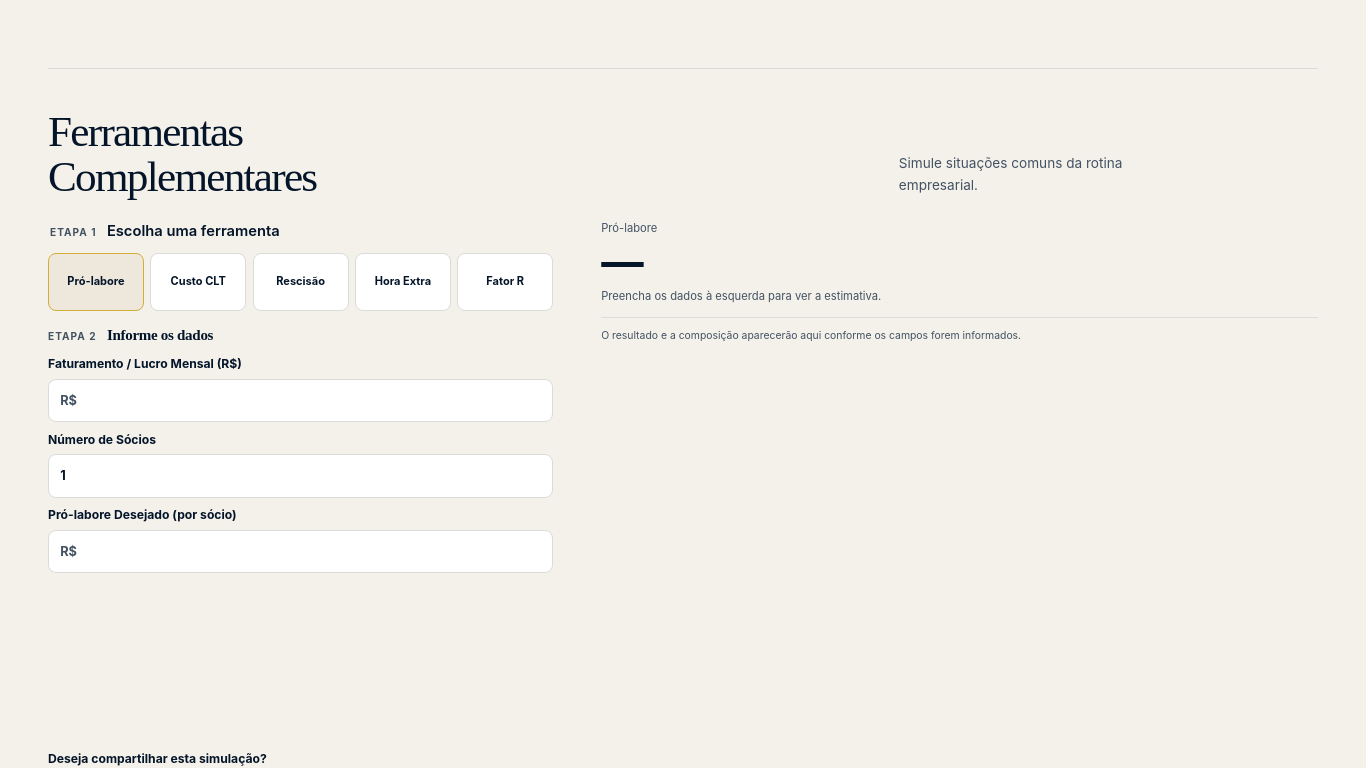
Test: Ferramentas Complementares › calcula pró-labore e usa a divisão por sócios e o INSS de 11%
The width and height of the screenshot is (1366, 768).
(page scrolled)
Step 1. Type "1000000" into the field labelled "Faturamento / Lucro Mensal (R$) R$" → (315, 400), box left=77, top=380, right=552, bottom=421
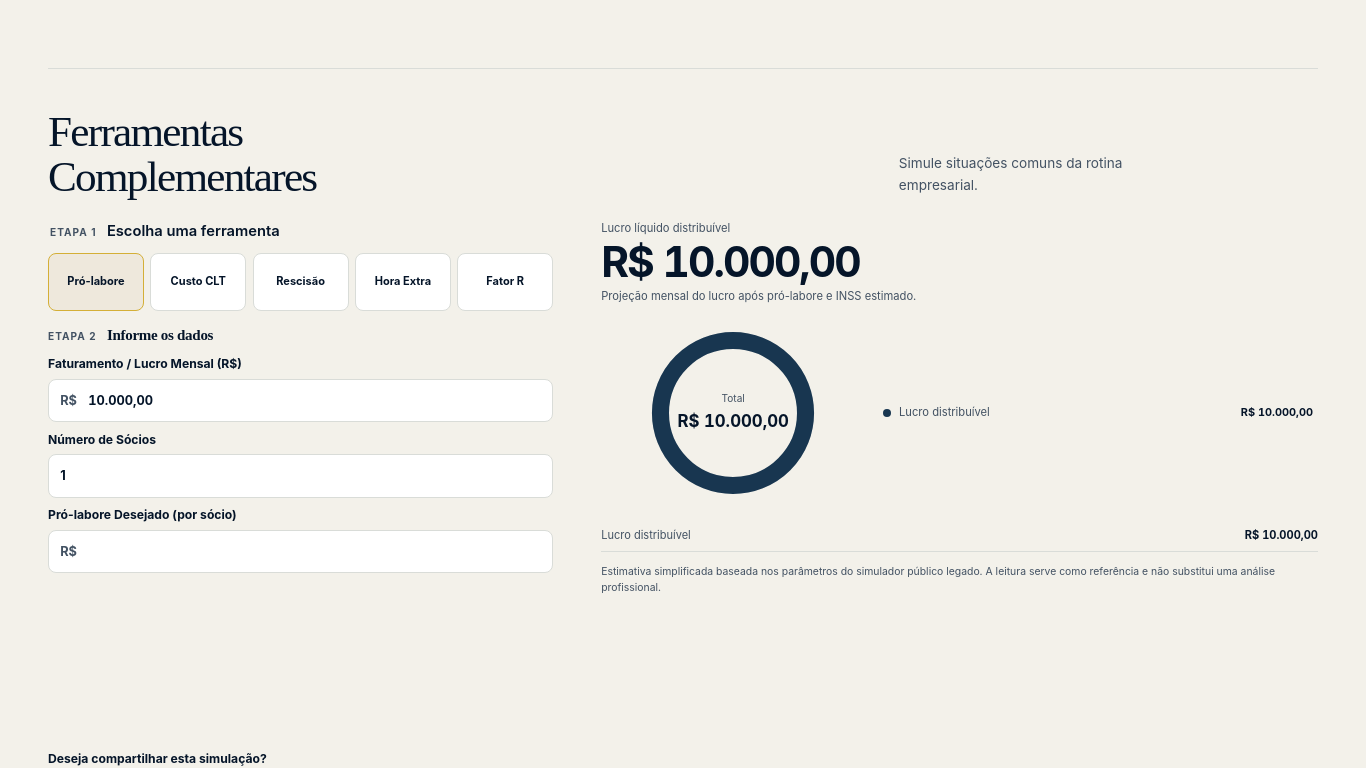
Step 2. Type "2" into the number field labelled "Número de Sócios" → (301, 476), box left=48, top=454, right=553, bottom=498
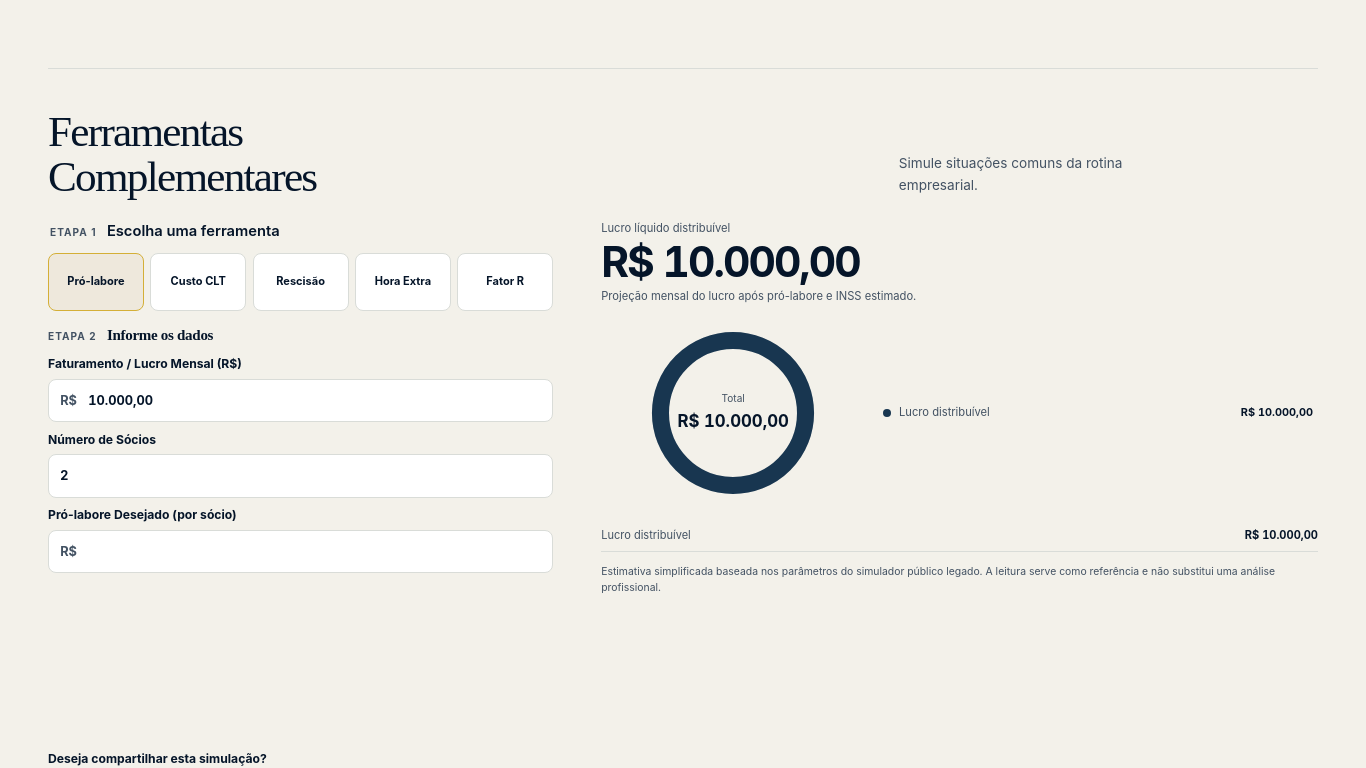
Step 3. Type "200000" into the field labelled "Pró-labore Desejado (por sócio) R$" → (315, 552), box left=77, top=531, right=552, bottom=572
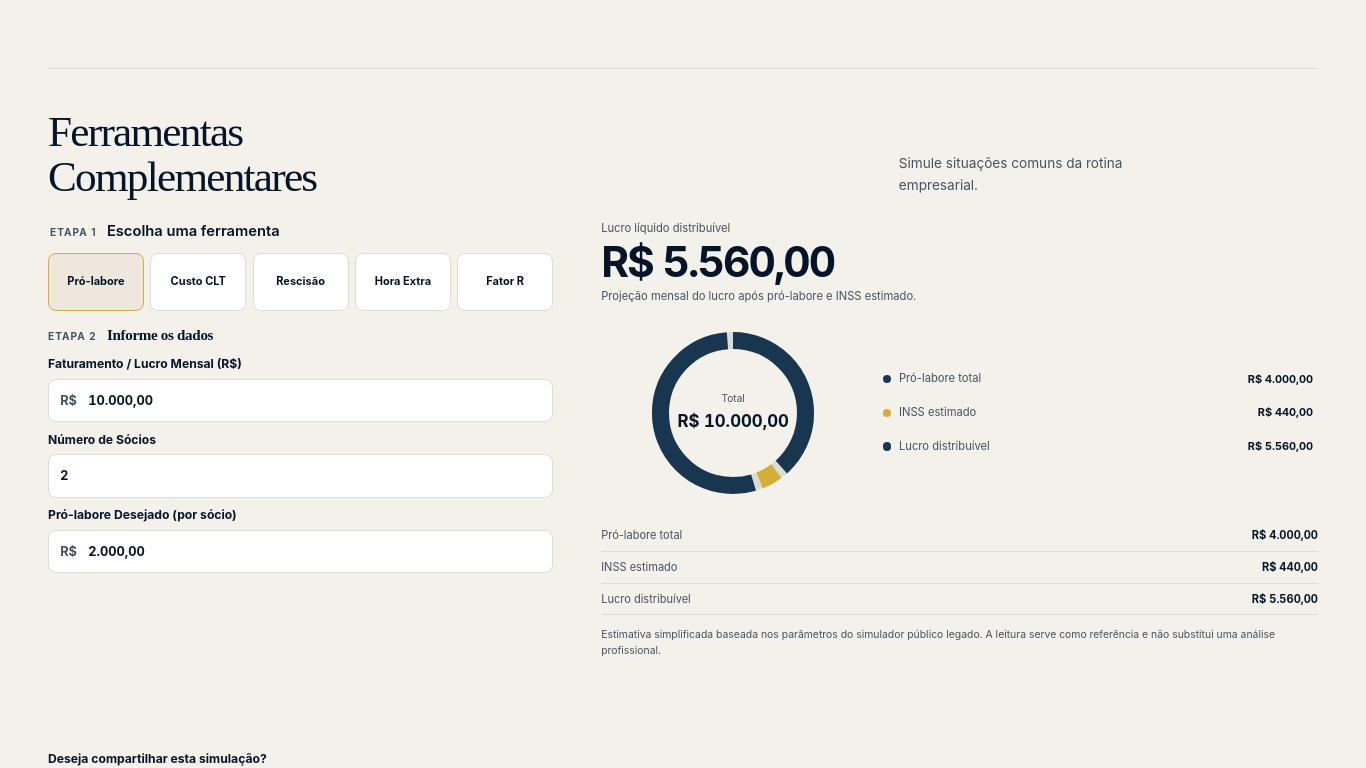
Expected: the message shows "R$ 5.560,00", left=601, top=236, right=834, bottom=287
Expected: the text "INSS estimado" next to "R$ 10.000,00" is shown, left=899, top=405, right=976, bottom=419
